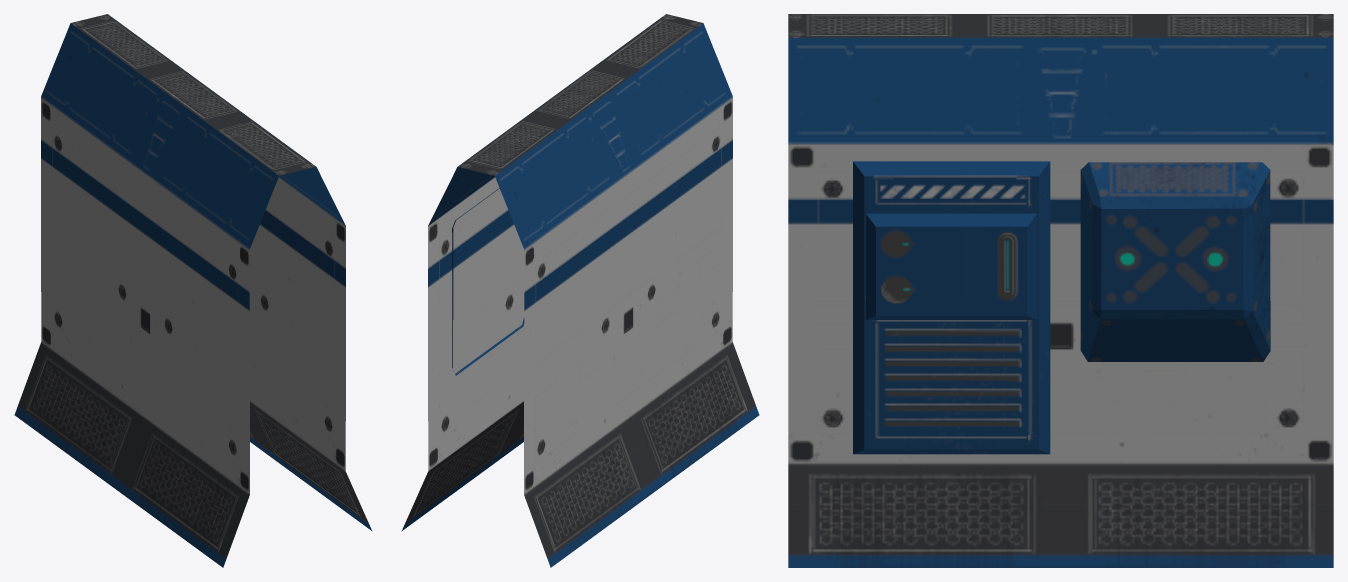
File: Wall_2_Sci_Fi.fbx
3 views of the same model, side by side, from view 1: azimuth 30°, elevation 25°; view 2: azimuth 150°, elevation 25°; view 3: azimuth 270°, elevation 25° (orthographic). The views are drawn at different scales.
Parts seen in each view (by area): view 1: Sci_Fi_wall_2; view 2: Sci_Fi_wall_2; view 3: Sci_Fi_wall_2.
Part boxes in pixels (<box>): Sci_Fi_wall_2: <box>14,14,372,567</box>; Sci_Fi_wall_2: <box>401,14,759,567</box>; Sci_Fi_wall_2: <box>788,14,1333,567</box>.
Bounding box in the file's own units: 169 × 395 × 395.
